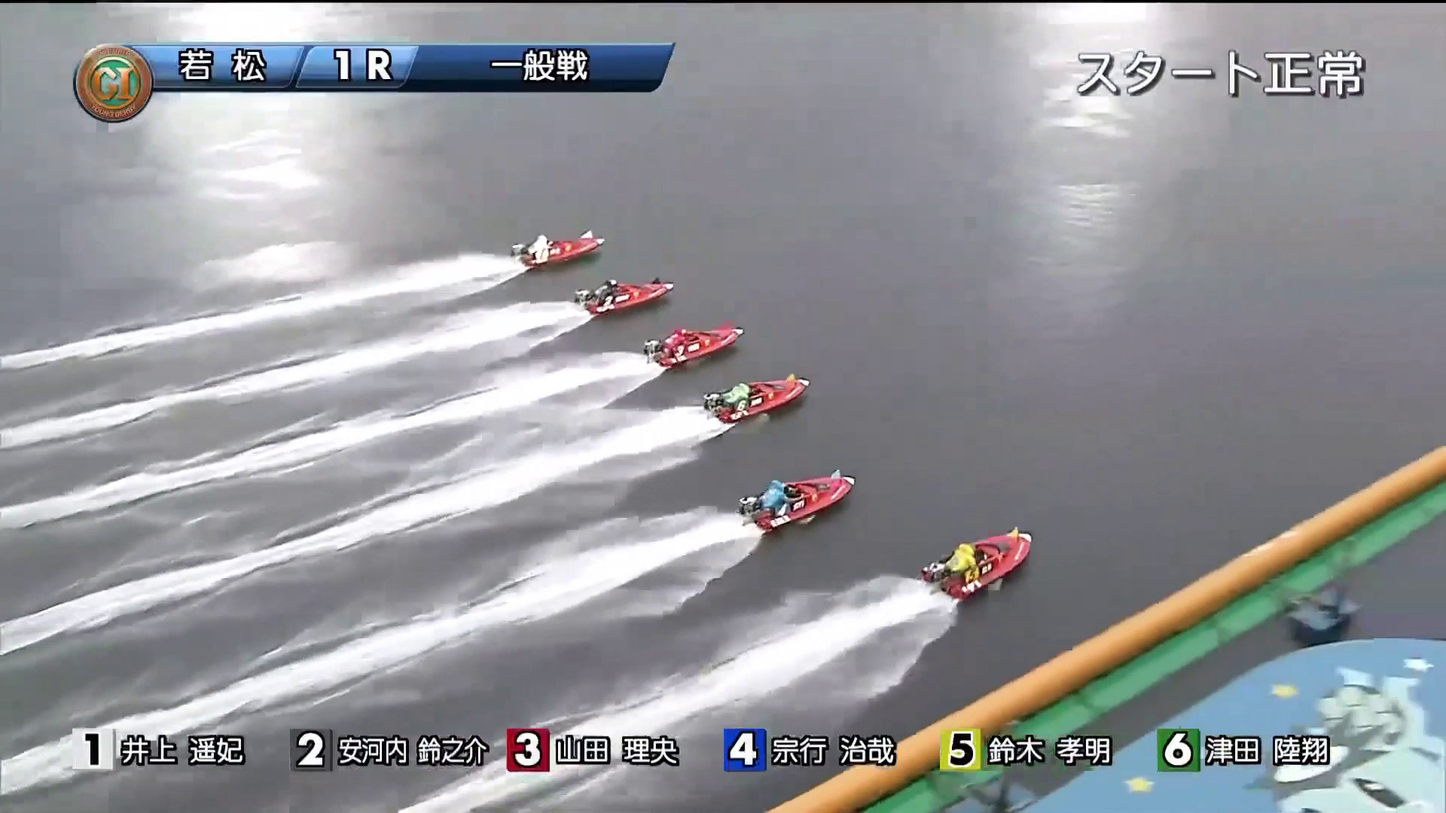１号艇: (513, 231, 589, 271)
２号艇: (569, 275, 662, 312)
３号艇: (634, 321, 732, 363)
４号艇: (697, 384, 802, 427)
５号艇: (737, 474, 857, 529)
６号艇: (907, 537, 1020, 594)
